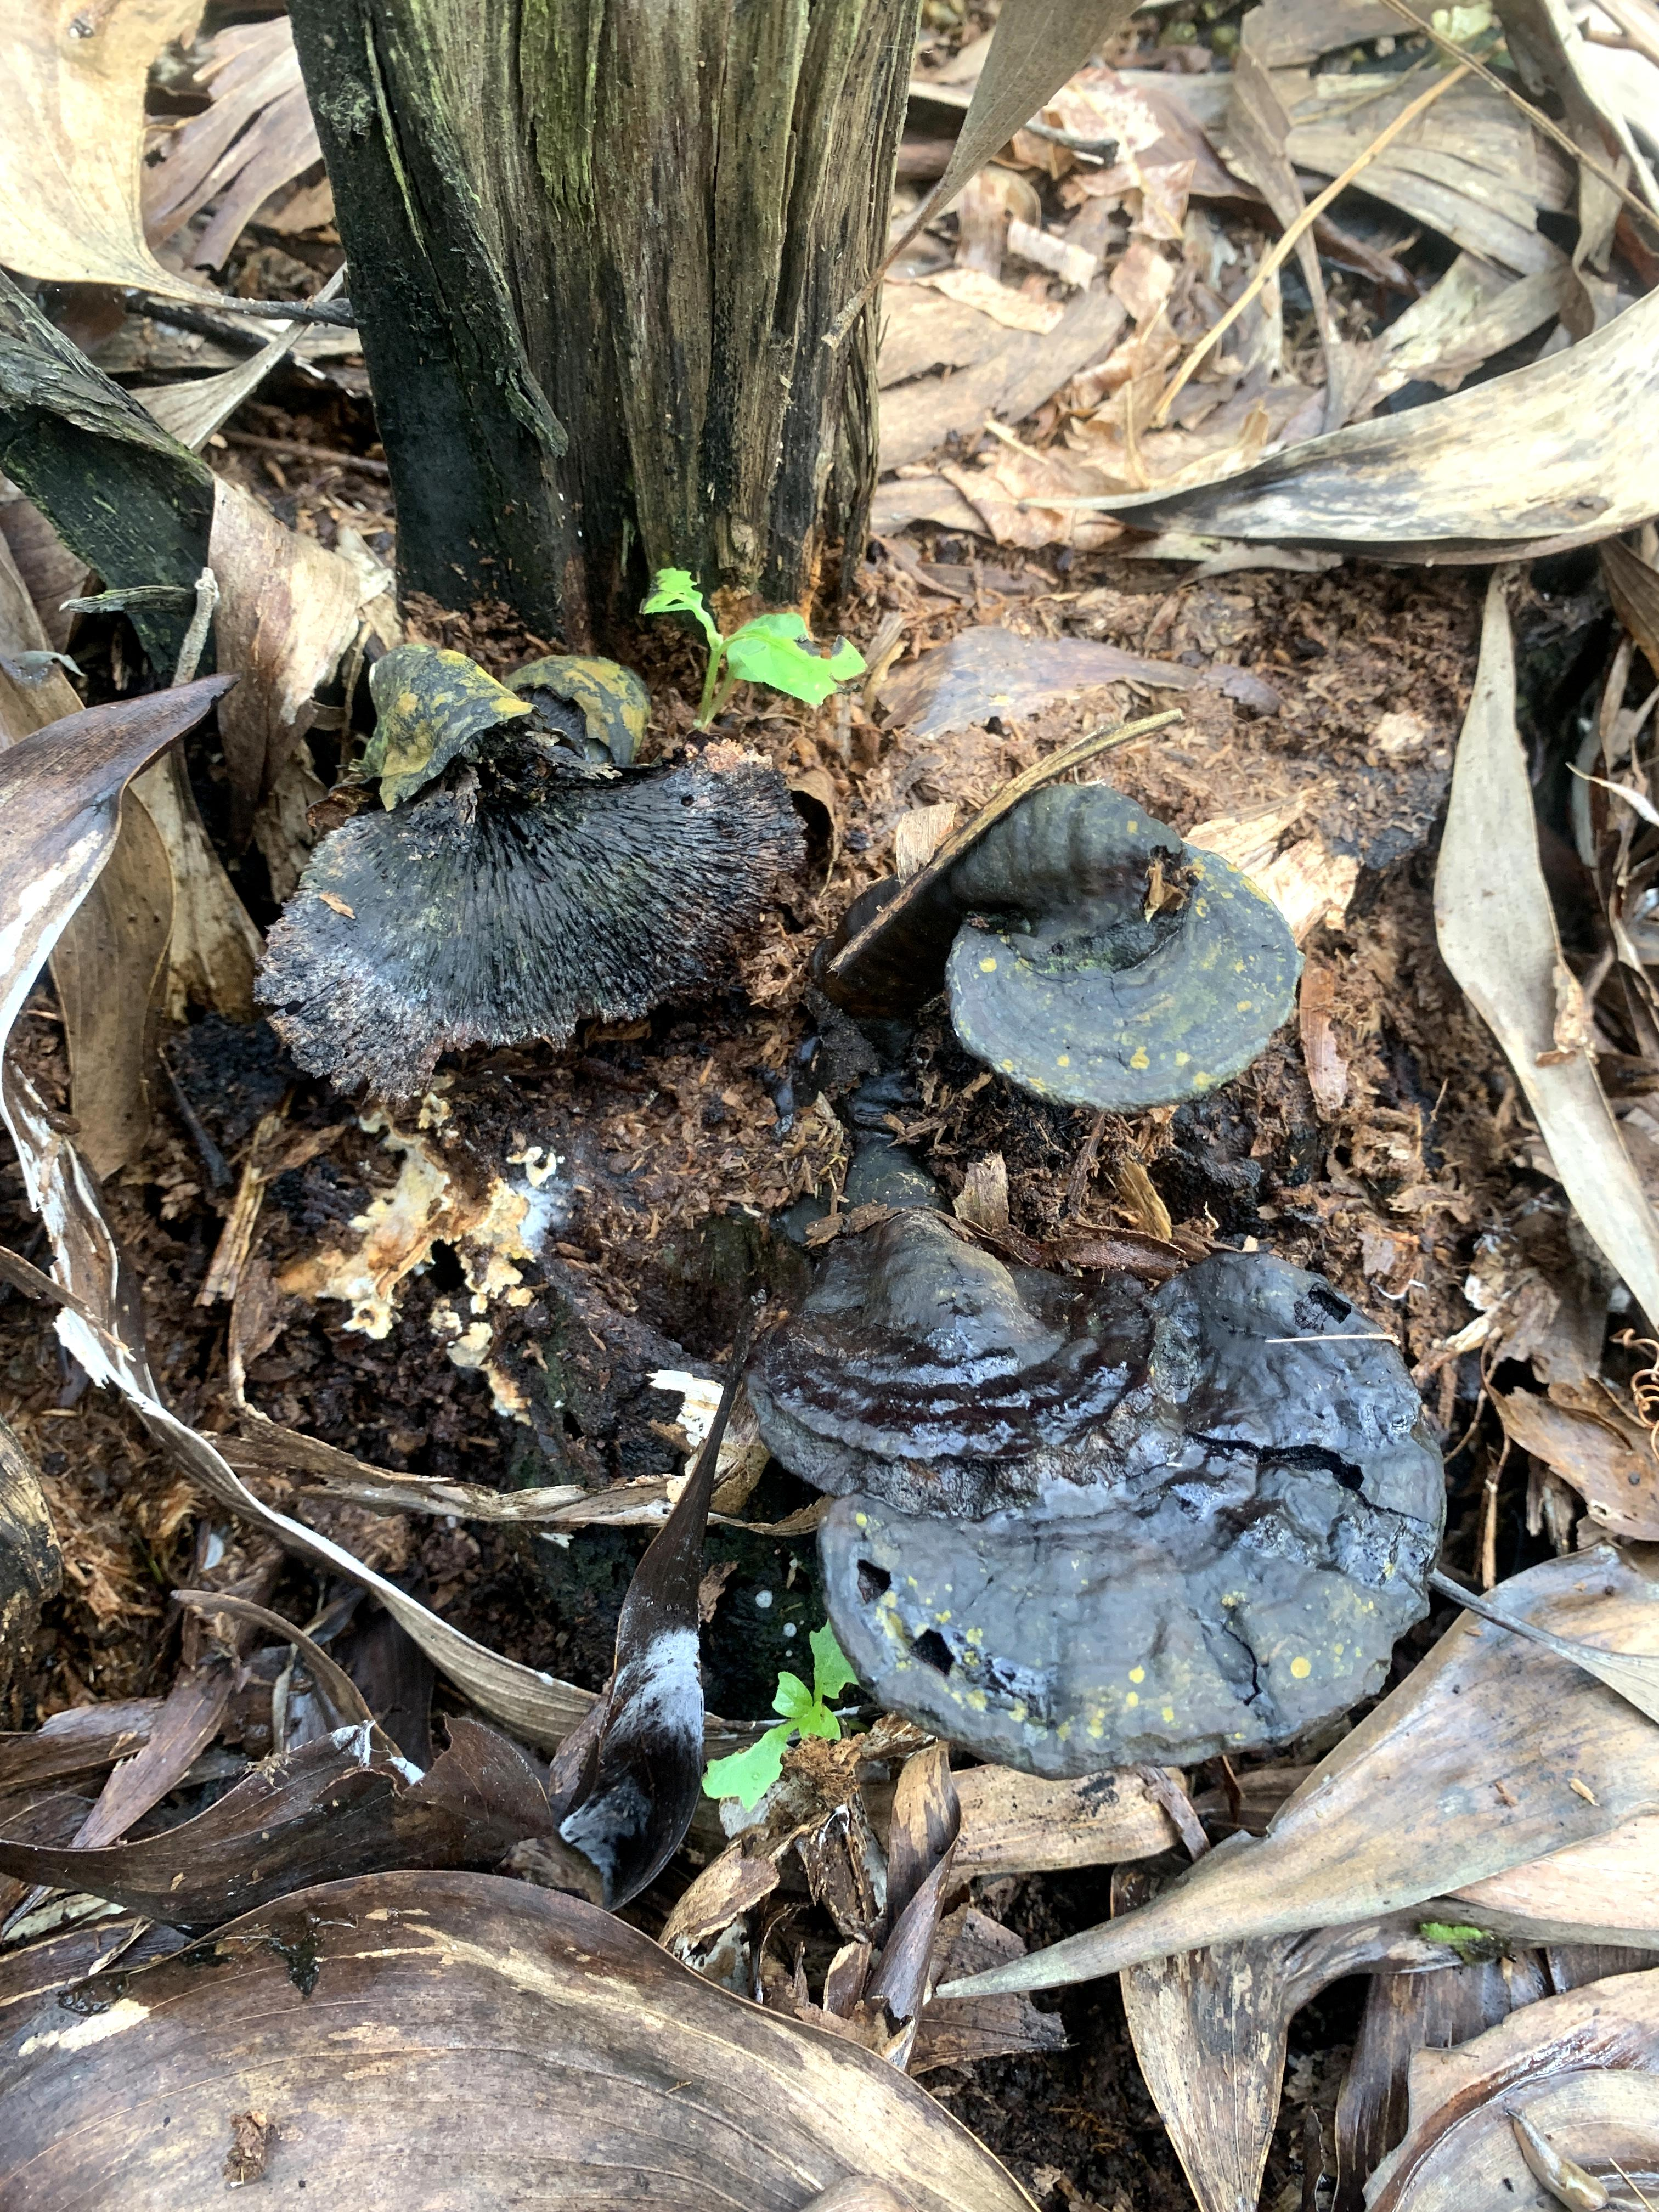Ganoderma - Fruit Body: (796, 1240, 1438, 1770), (286, 775, 805, 1103), (955, 862, 1302, 1103)
